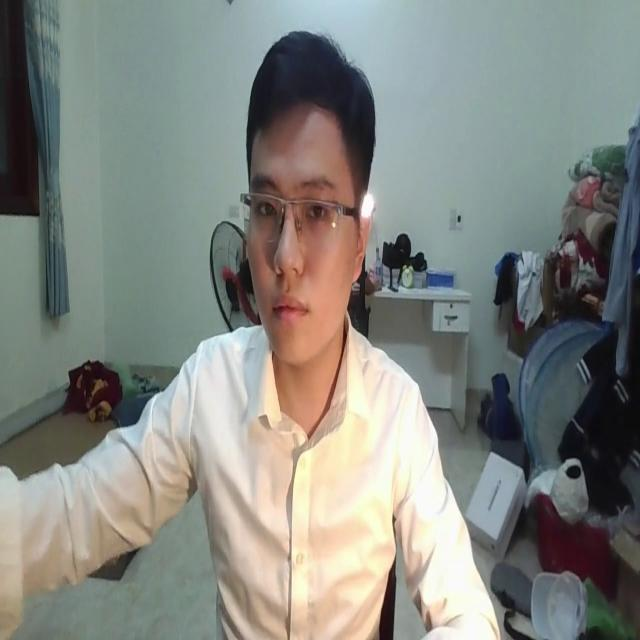student: (0, 28, 504, 640)
